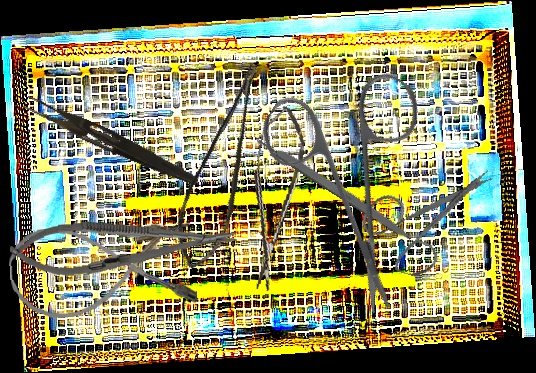Cannula: (7, 218, 198, 322)
Dressing Forceps: (20, 94, 203, 189)
Iris Scissors: (209, 30, 496, 318), (351, 139, 496, 291)
Micro Scissor: (158, 60, 294, 277), (234, 103, 312, 294)
Needle Holder: (8, 211, 239, 281)
Scalpel Handle: (255, 133, 415, 243)
